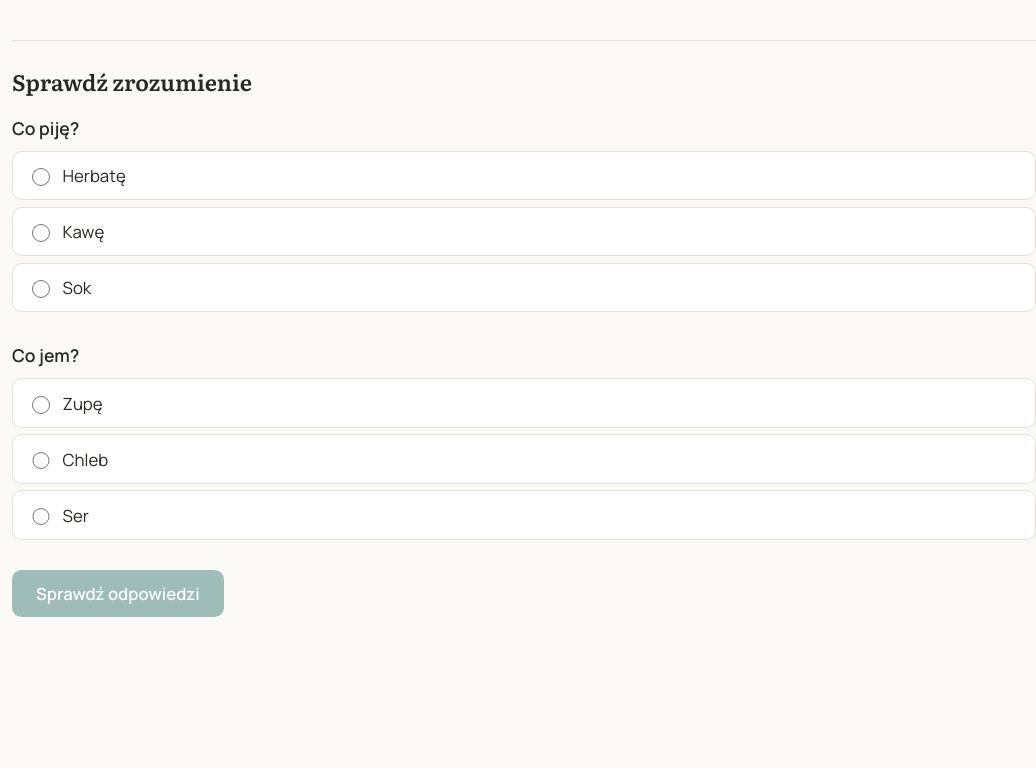
Test: Quiz › locks the answers after submitting
Click the radio button labelled "Herbatę" at (41, 177), box [32,168,50,186]
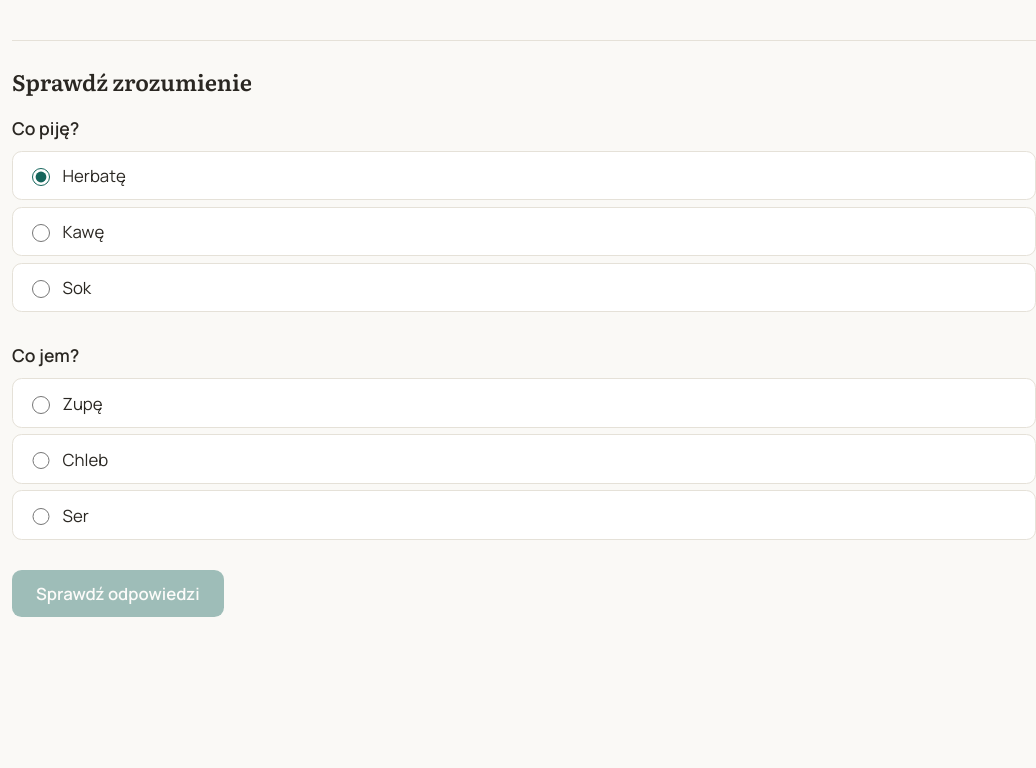
Click the radio button labelled "Chleb" at (41, 461), box [32,452,50,470]
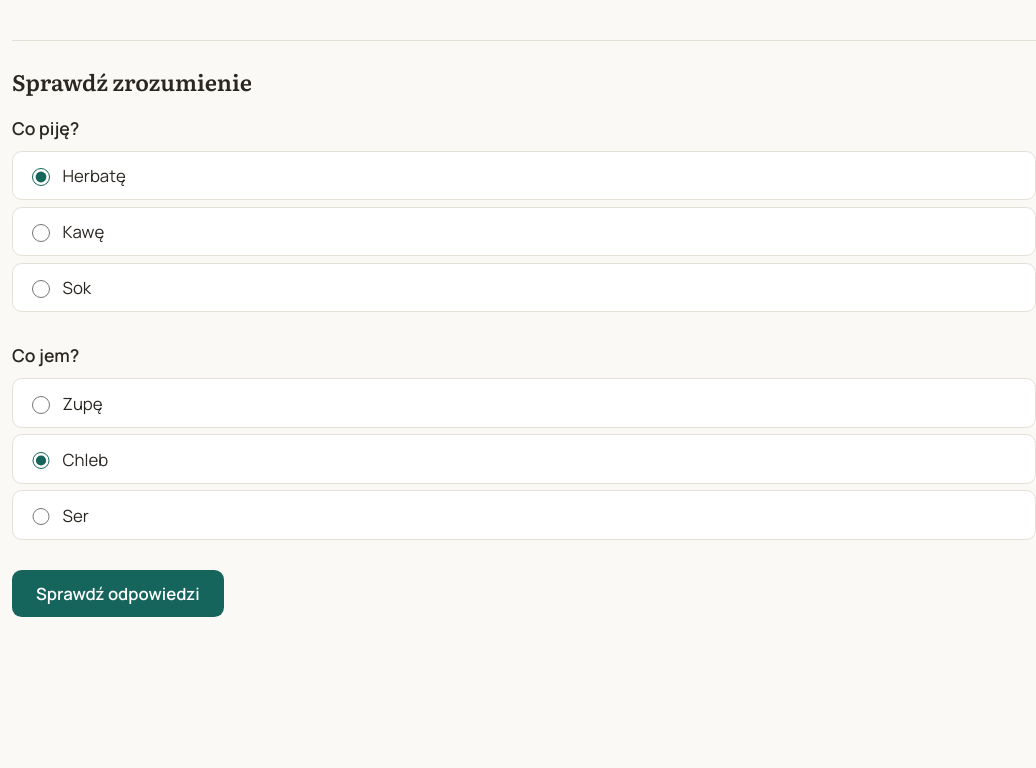
Click the button "Sprawdź odpowiedzi" at (118, 594), box [12,570,224,617]
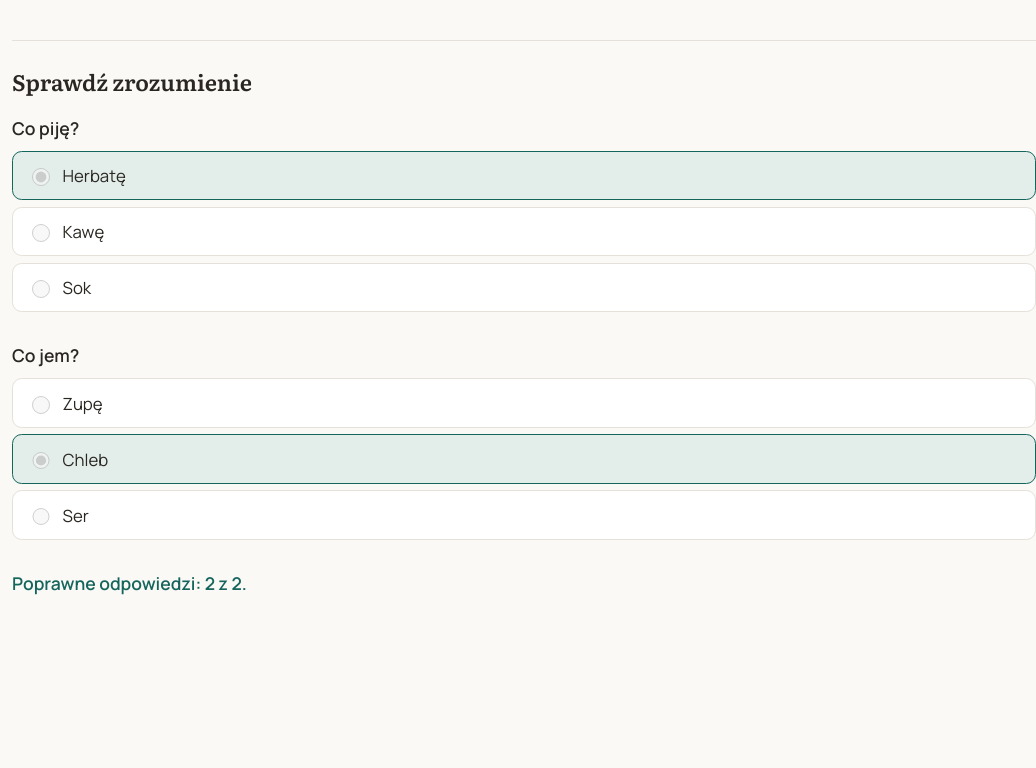
Expected: the radio button labelled "Kawę" is disabled, [32,224,50,242]
